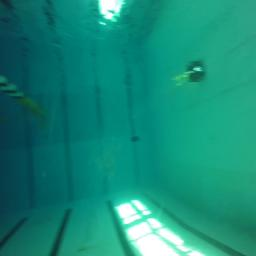Full: (131, 136, 140, 142)
front: (188, 68, 205, 82)
